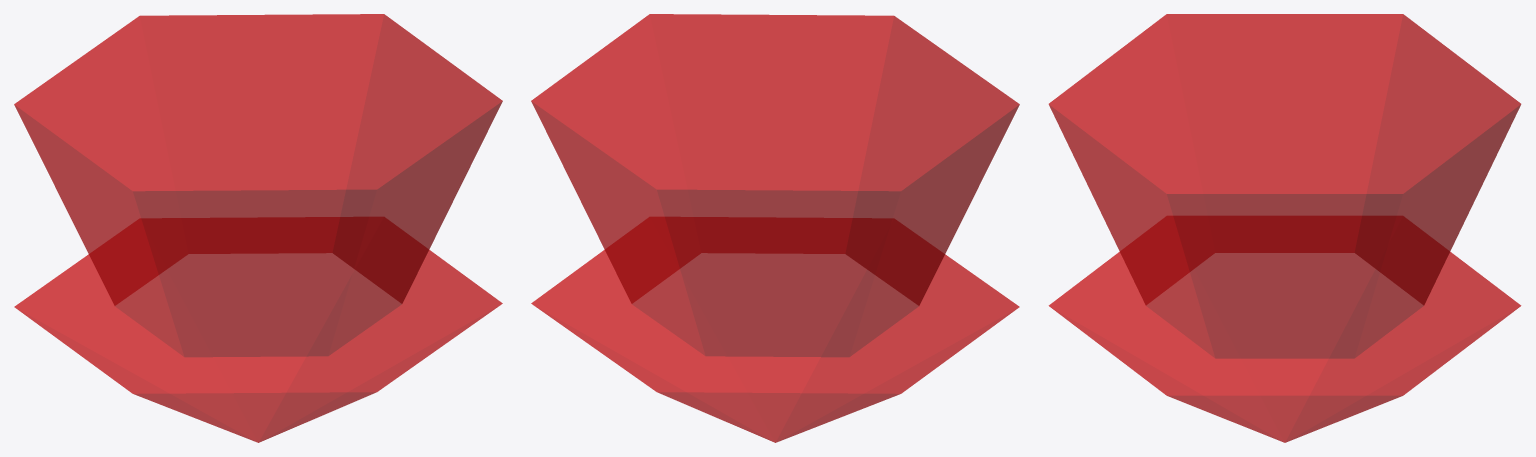
Rendered from _gaze_on.dae.
3 views of the same model, side by side, from view 1: azimuth 30°, elevation 25°; view 2: azimuth 150°, elevation 25°; view 3: azimuth 270°, elevation 25° (orthographic).
Parts seen in each view (by area): view 1: Cone; view 2: Cone; view 3: Cone.
Boxes of the visible parts, x1=… form: Cone: x1=14, y1=14, x2=502, y2=442; Cone: x1=531, y1=14, x2=1019, y2=442; Cone: x1=1048, y1=14, x2=1521, y2=442.
Bounding box in the file's own units: 450 × 500 × 395.
